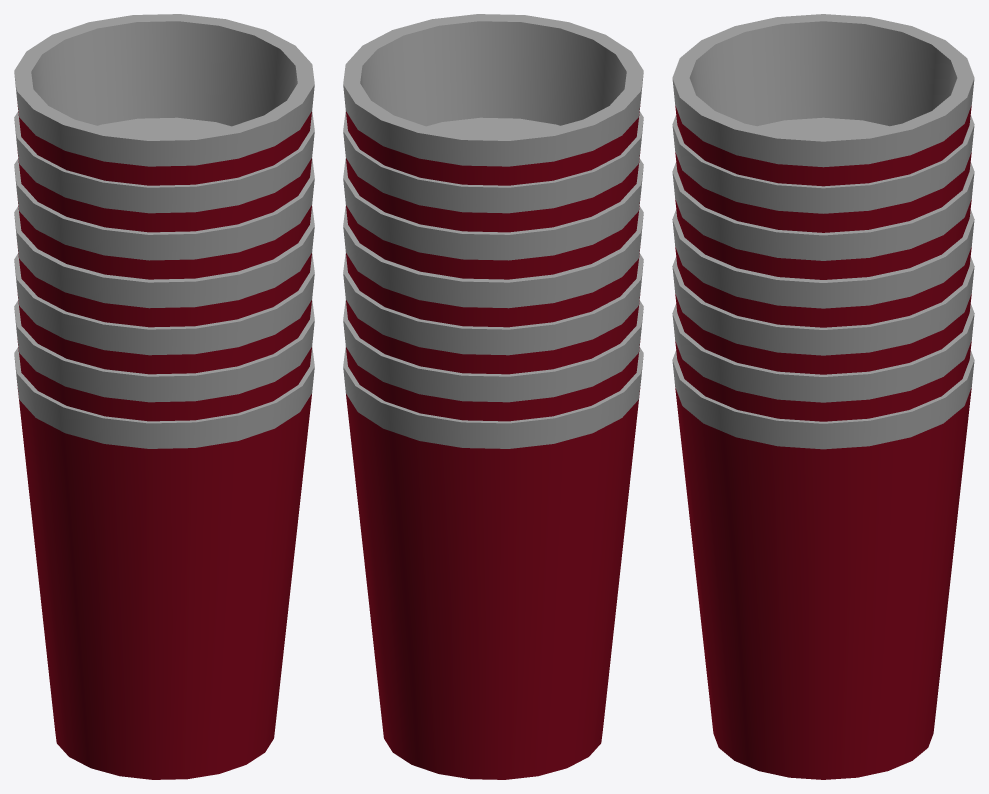
File: SoloSmallStack.fbx
3 renders of one model, left to right at view 1: azimuth 30°, elevation 25°; view 2: azimuth 150°, elevation 25°; view 3: azimuth 270°, elevation 25°, orthographic.
Parts seen in each view (by area): view 1: SoloSmallStack; view 2: SoloSmallStack; view 3: SoloSmallStack.
Boxes of the visible parts, box(x1,y1,x2,y2) form: SoloSmallStack: box(14, 14, 314, 779); SoloSmallStack: box(343, 14, 643, 779); SoloSmallStack: box(672, 14, 974, 779).
Size of the model in its own units: 195 by 468 by 195.
